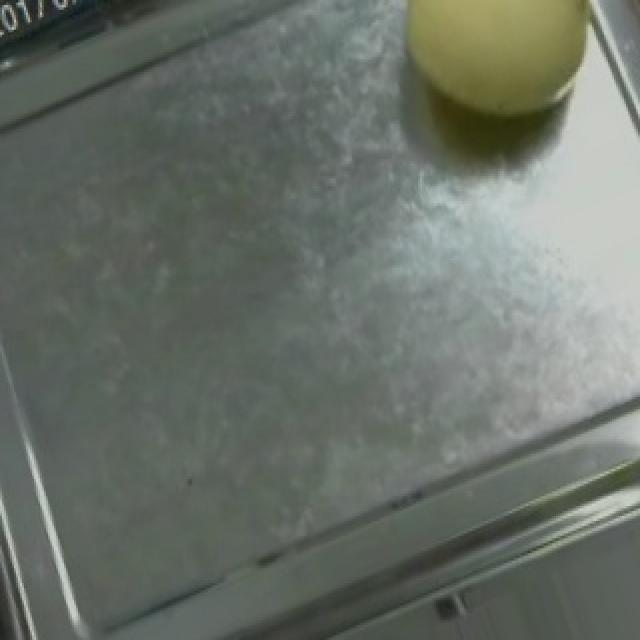Fruit: (362, 0, 628, 154)
